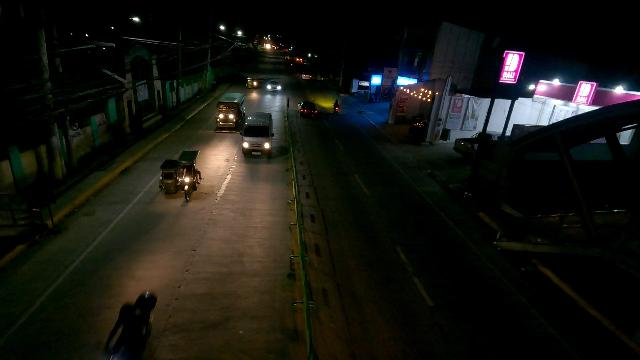car: (298, 101, 318, 116), (266, 80, 282, 92)
jeepney: (215, 92, 245, 130)
motorcycle: (104, 290, 156, 360), (333, 99, 341, 115), (302, 73, 314, 80)
van: (241, 111, 274, 158)
